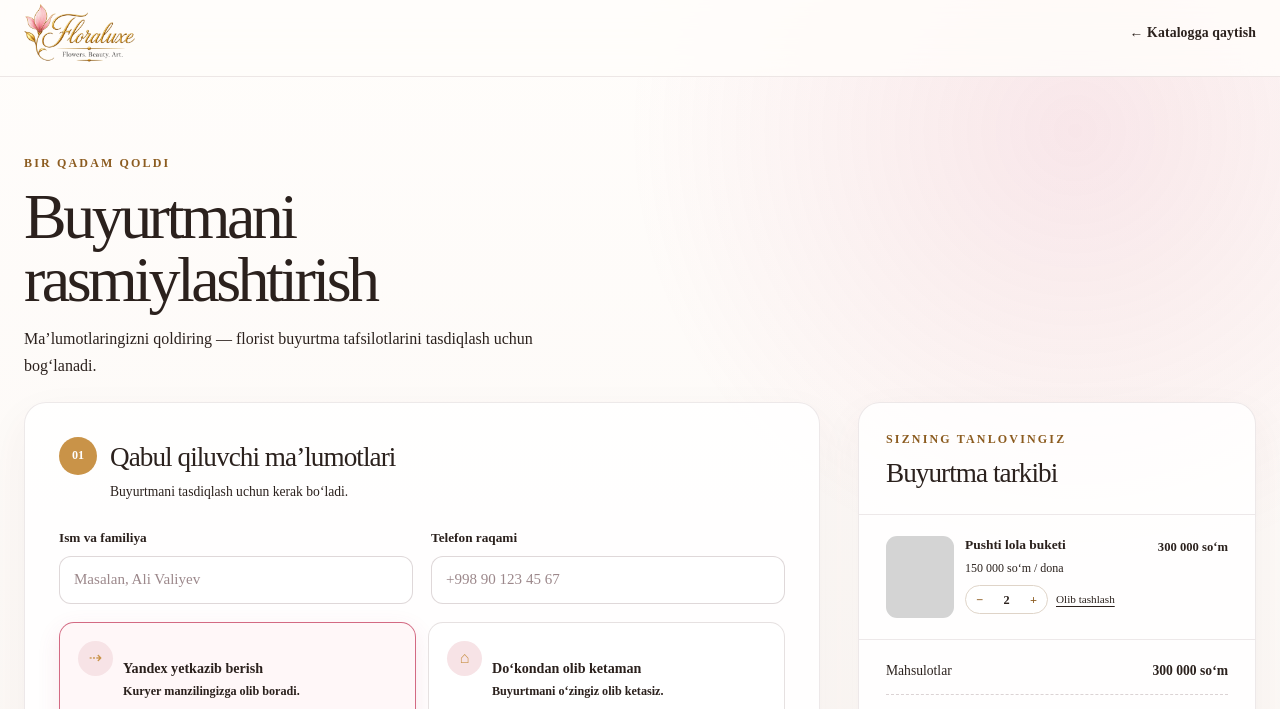
Test case: CheckoutClient › names the rejected product and keeps the line so the message stays on screen
expect the heading "Pushti lola buketi" is shown: met, box x1=965 y1=537 x2=1066 y2=552
Type "Ali Valiyev" into the field labelled "Ism va familiya".
click(236, 580); type("Ali Valiyev")  # box x1=59 y1=556 x2=413 y2=604
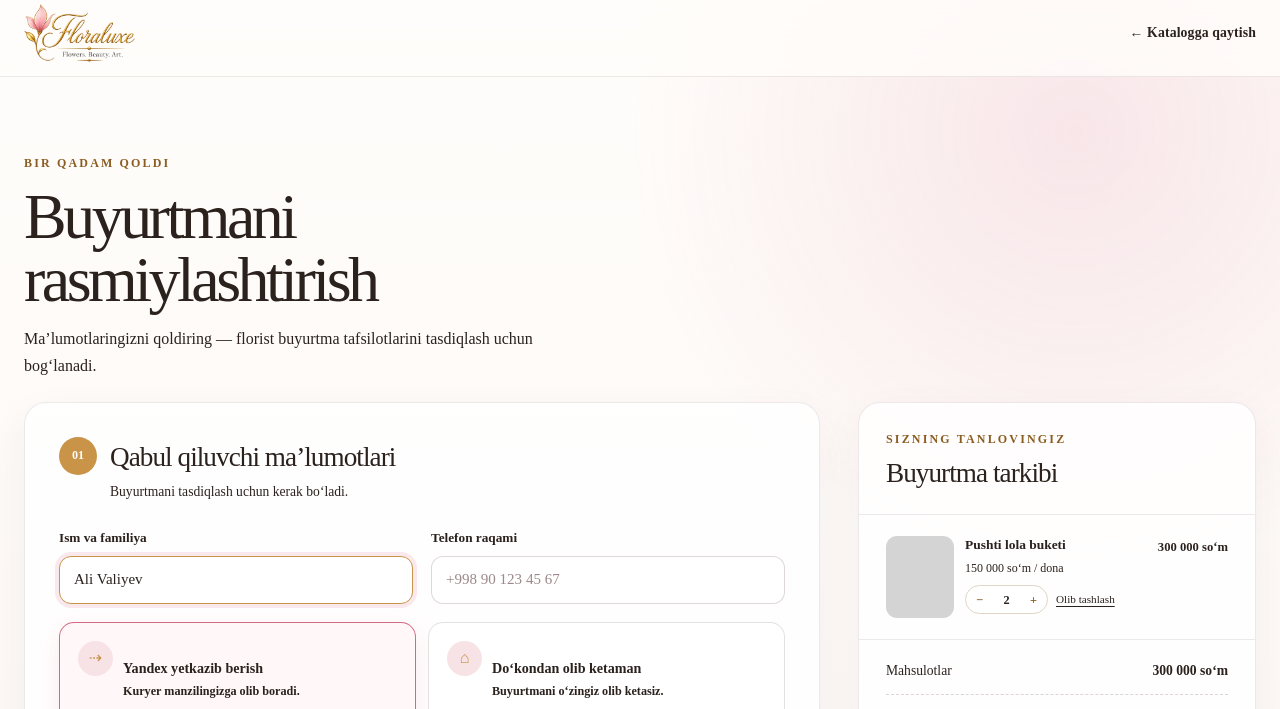
Type "+998901234567" into the field labelled "Telefon raqami".
click(608, 580); type("+998901234567")  # box x1=431 y1=556 x2=785 y2=604
(page scrolled)
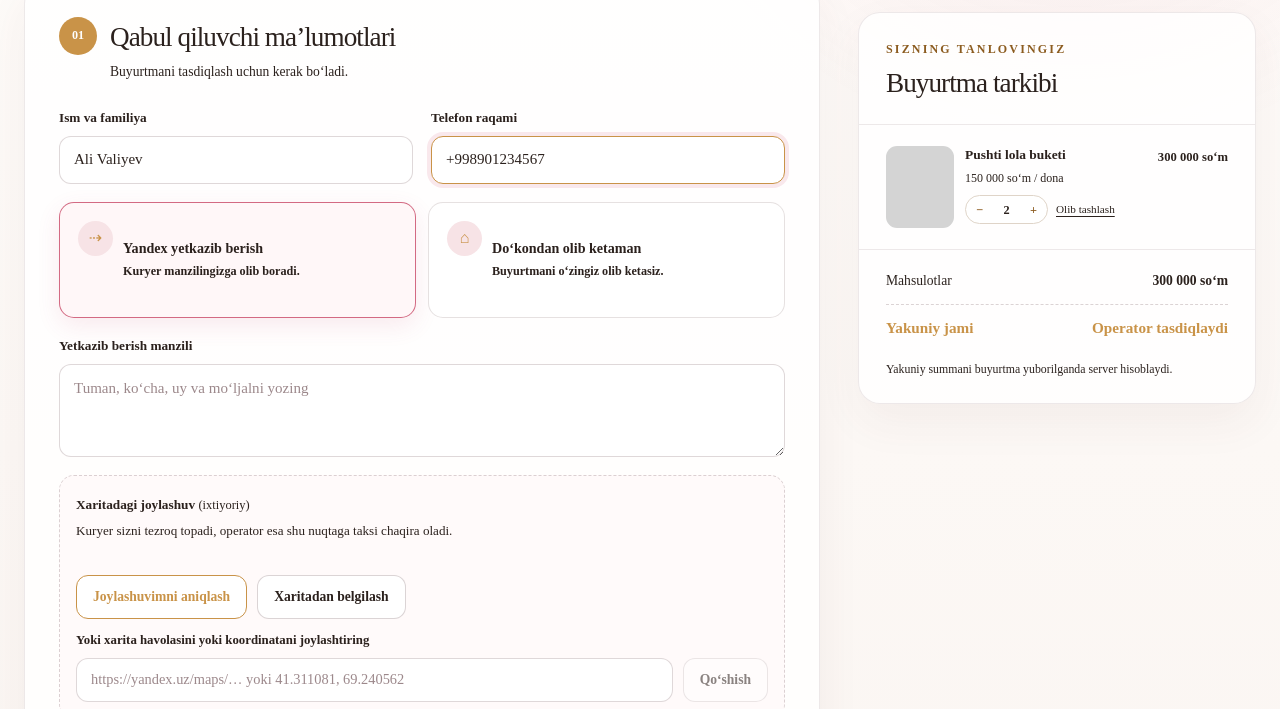
Type "Toshkent shahri, Chilonzor tumani" into the text box labelled "Yetkazib berish manzili".
click(422, 410); type("Toshkent shahri, Chilonzor tumani")  # box x1=59 y1=364 x2=785 y2=457
(page scrolled)
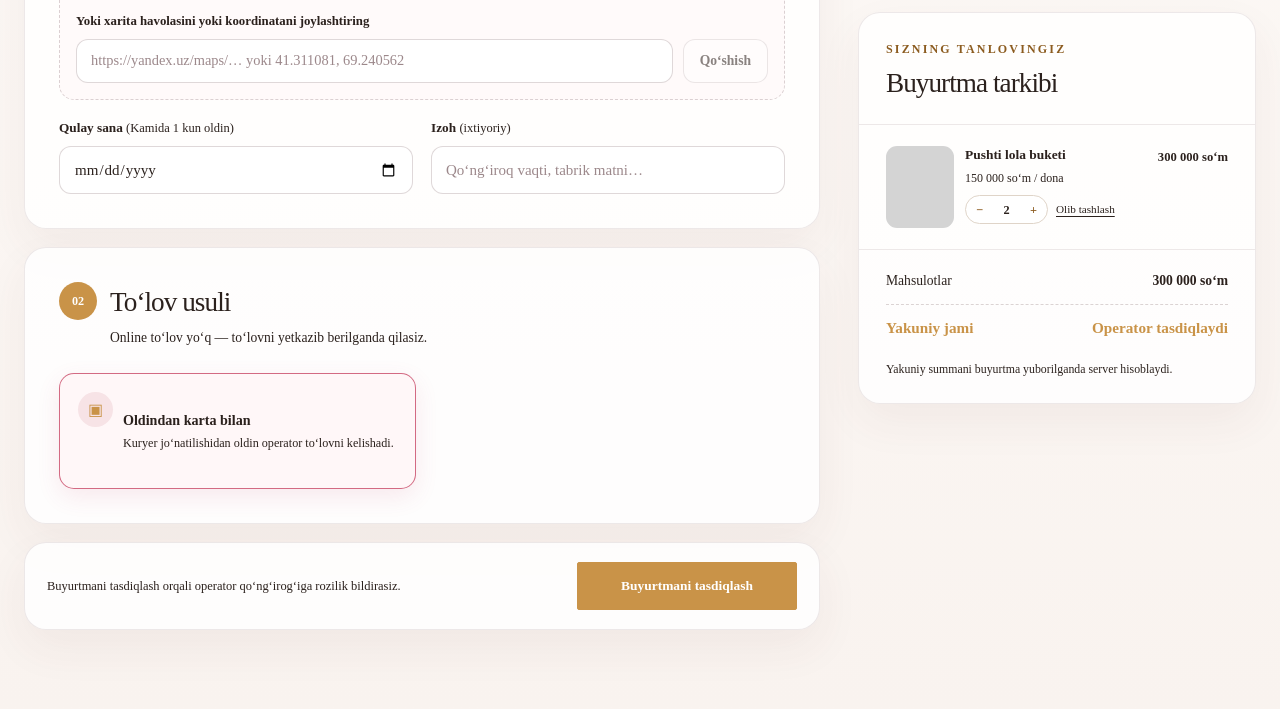
Click the button "Buyurtmani tasdiqlash".
click(687, 586)  # box x1=577 y1=562 x2=797 y2=610
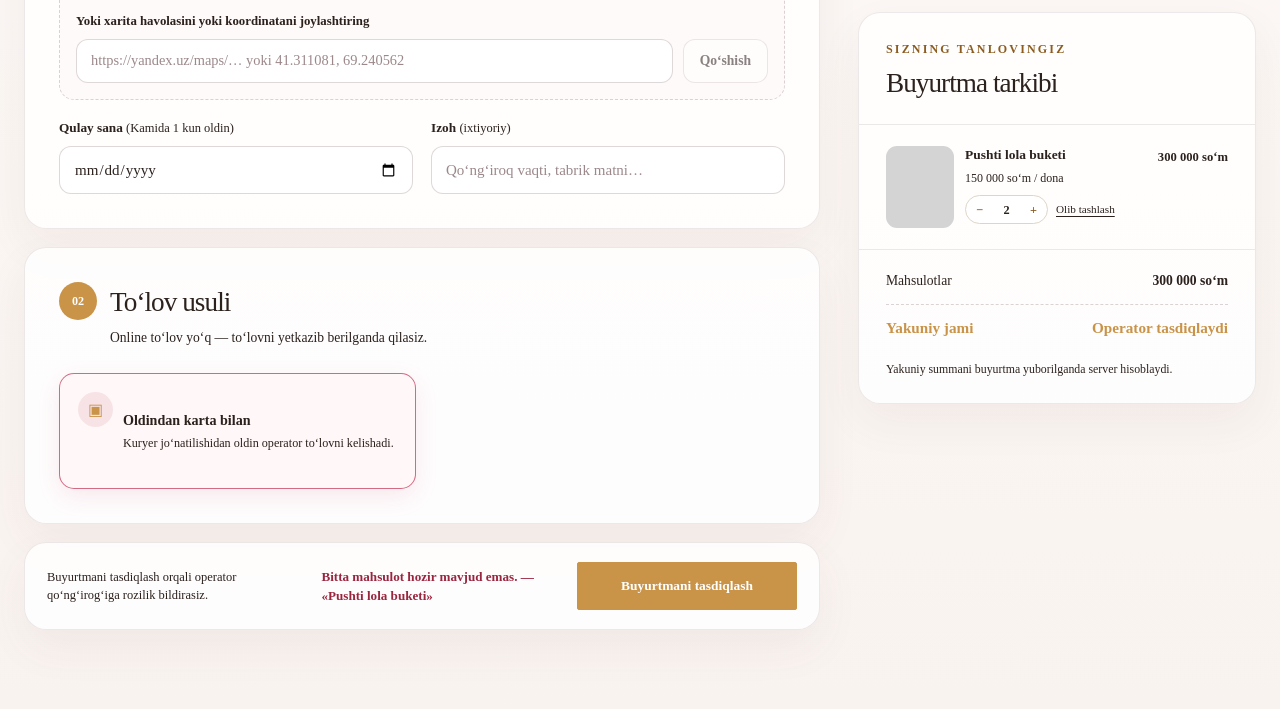
expect the message shows "mahsulot hozir mavjud emas": met, box x1=321 y1=569 x2=534 y2=603
expect the message shows "Pushti lola buketi": met, box x1=321 y1=569 x2=534 y2=603
